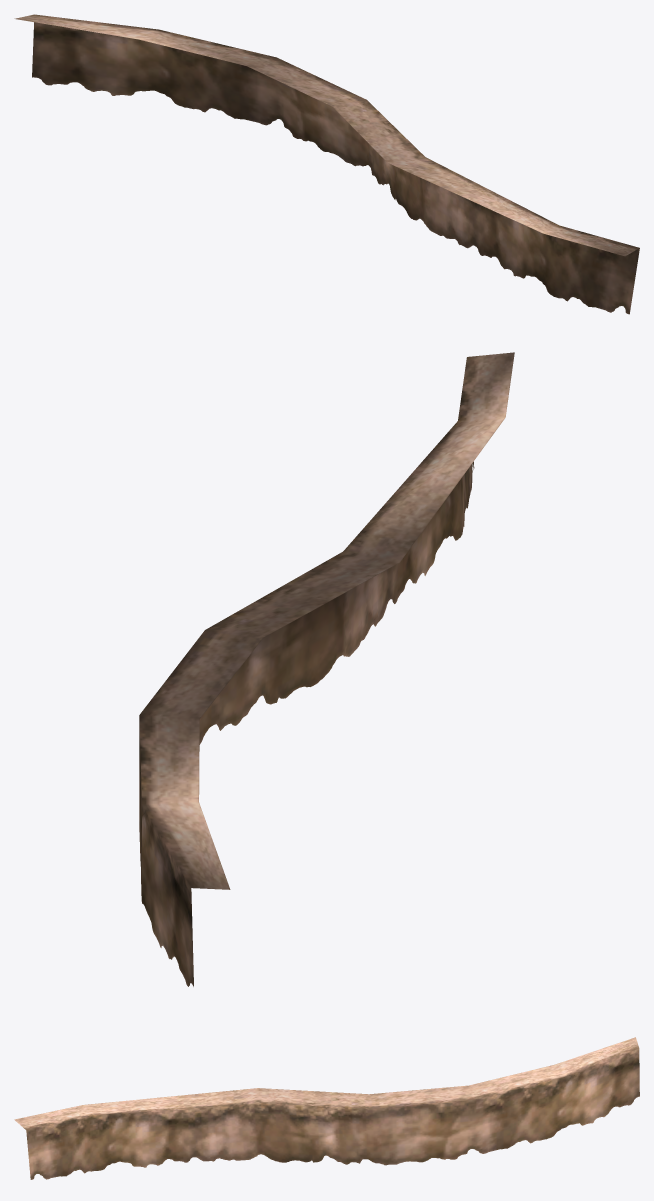
The model's file is EKH_ENTRANCE_PS_EN_EDGEGRAB484747.fbx.
3 views of the same model, one above another, from view 1: azimuth 30°, elevation 25°; view 2: azimuth 150°, elevation 25°; view 3: azimuth 270°, elevation 25° (orthographic). The views are drawn at different scales.
Parts seen in each view (by area): view 1: EKH_ENTRANCE_PS_EN_EDGEGRAB484747; view 2: EKH_ENTRANCE_PS_EN_EDGEGRAB484747; view 3: EKH_ENTRANCE_PS_EN_EDGEGRAB484747.
Part boxes in pixels (box(x1,y1,x2,y2)): EKH_ENTRANCE_PS_EN_EDGEGRAB484747: box(14, 14, 639, 314); EKH_ENTRANCE_PS_EN_EDGEGRAB484747: box(139, 352, 514, 986); EKH_ENTRANCE_PS_EN_EDGEGRAB484747: box(14, 1037, 639, 1179).
Bounding box in the file's own units: 14373 × 4542 × 41773.
Materials: 1 (1 with a texture image).
